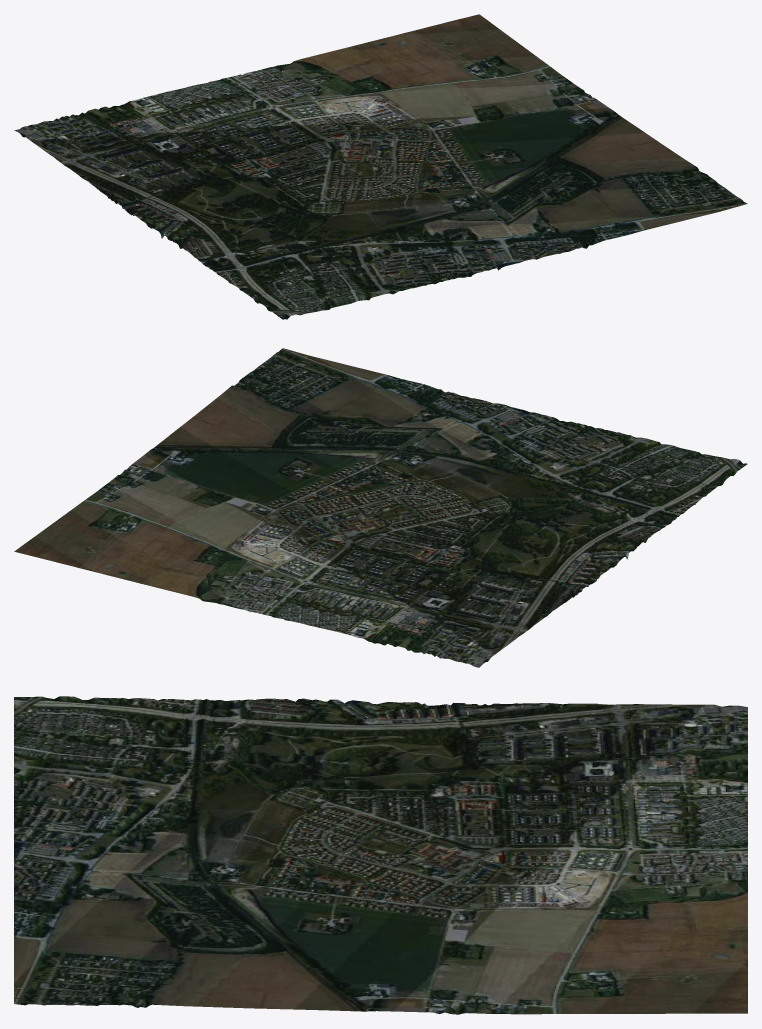
The model's file is map_10_257_431.dae.
3 renders of one model, top to bottom at view 1: azimuth 30°, elevation 25°; view 2: azimuth 150°, elevation 25°; view 3: azimuth 270°, elevation 25°, orthographic. The views are drawn at different scales.
Parts seen in each view (by area): view 1: Ter0; view 2: Ter0; view 3: Ter0.
Boxes of the visible parts, bbox=[...] form: Ter0: bbox=[14, 14, 747, 319]; Ter0: bbox=[14, 348, 747, 667]; Ter0: bbox=[14, 696, 747, 1014].
Size of the model in its own units: 2044 by 2044 by 52.
Materials: 3 (3 with a texture image).
